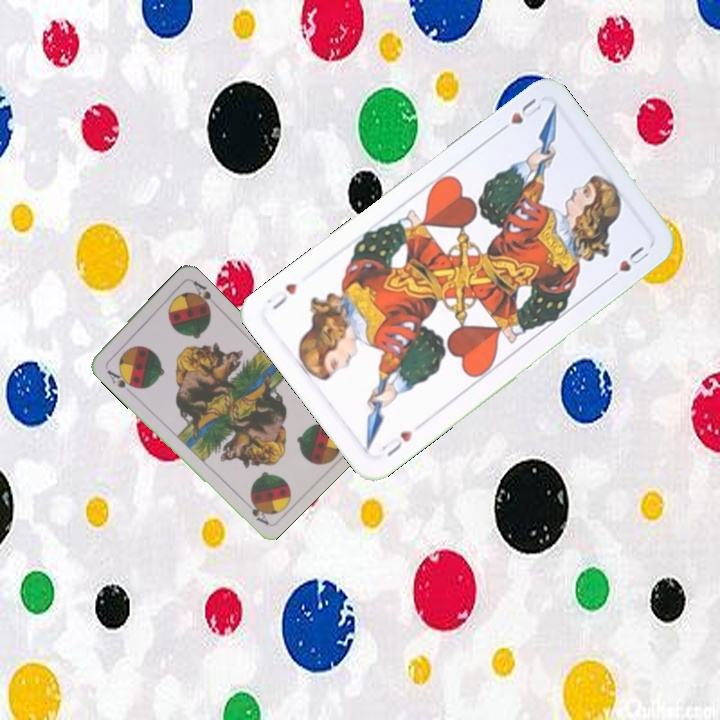HU: (493, 94, 544, 137), (377, 426, 415, 460)
SA: (103, 366, 138, 395)
